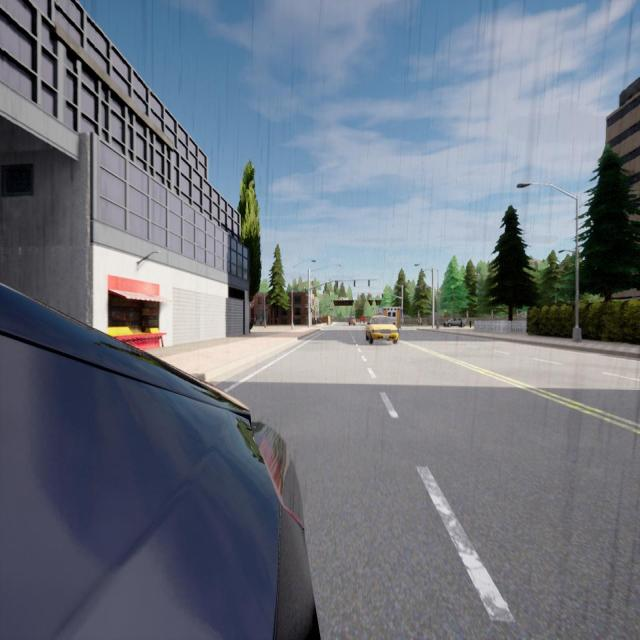Vehicle: (0, 284, 318, 638), (366, 315, 398, 344), (378, 306, 402, 330), (443, 317, 466, 328), (348, 315, 356, 326), (360, 315, 365, 324)
traffic_light: (336, 281, 338, 287), (368, 280, 370, 286), (360, 293, 362, 298), (370, 294, 372, 298), (354, 280, 355, 287), (382, 294, 383, 298)
